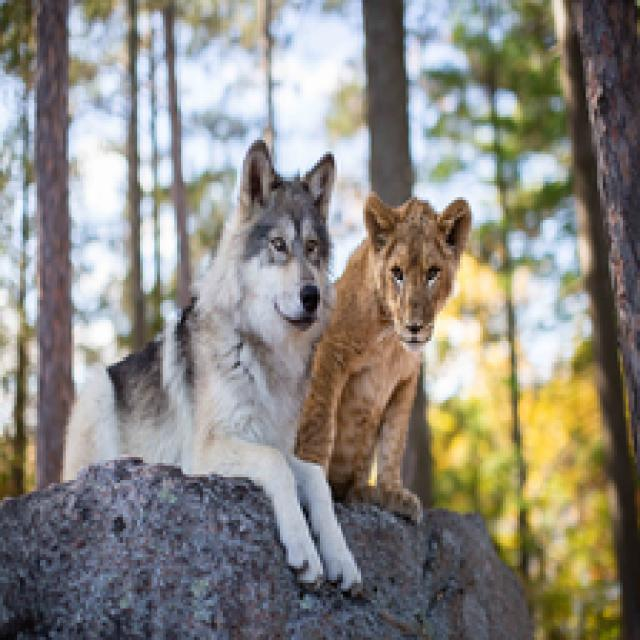cheetah: (327, 194, 462, 544)
wolf: (86, 142, 332, 604)
